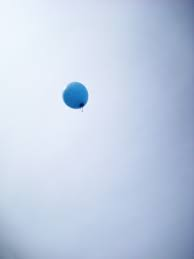Balloon: (61, 81, 89, 108)
